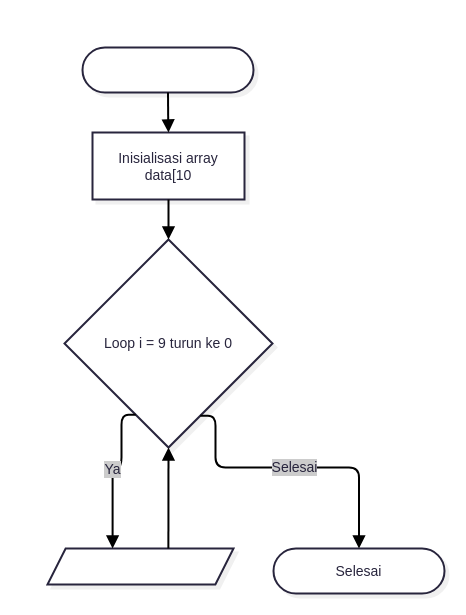
Some shapes in this 466 by 615 pixel diagram are drawn without their labels. Here are the shapes that lost their labels. From the top down, the centre of each, then its label:
At point 169,71: "Mulai".
At point 142,568: "Cetak data[i".
